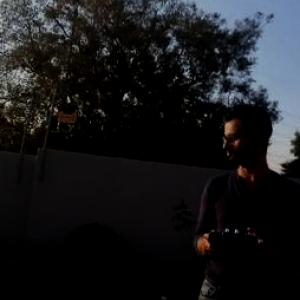follow: (185, 94, 299, 299)
